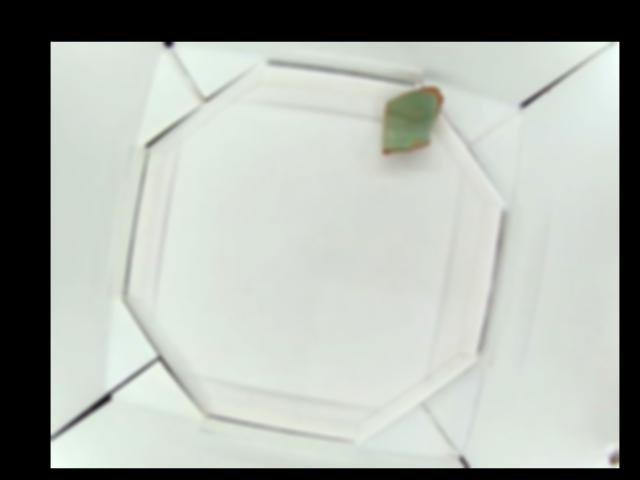China: (377, 86, 446, 158)
